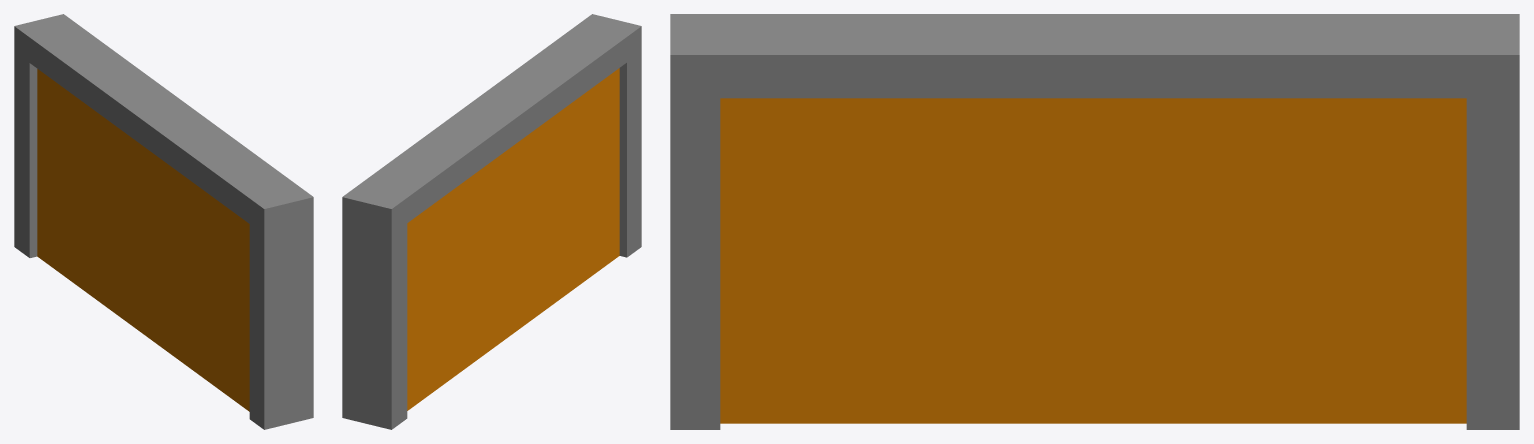
The model's file is Brick_Wall.fbx.
The picture shows the model from 3 angles, left to right: view 1: azimuth 30°, elevation 25°; view 2: azimuth 150°, elevation 25°; view 3: azimuth 270°, elevation 25°; orthographic projection. The views are drawn at different scales.
Parts seen in each view (by area): view 1: Brick_wall; view 2: Brick_wall; view 3: Brick_wall.
Part boxes in pixels (x1,y1,x2,y2): Brick_wall: (14,14,313,429); Brick_wall: (342,14,641,429); Brick_wall: (670,14,1519,429).
Size of the model in its own units: 1.06 by 4.53 by 9.3.
